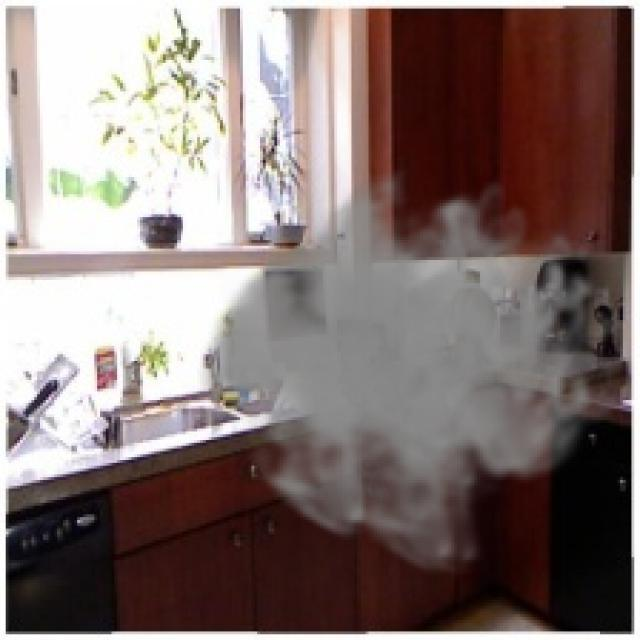Smoke: (197, 155, 620, 580)
